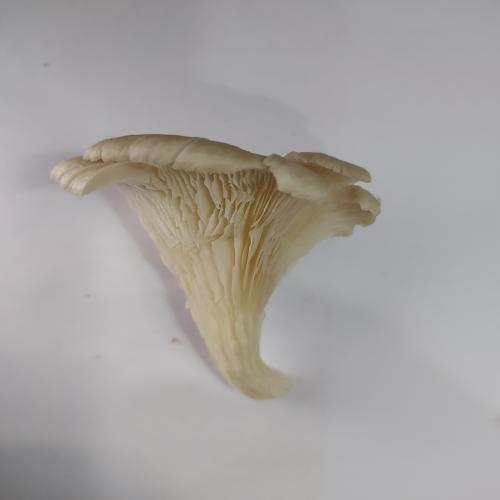Oyster Mushroom: (49, 133, 382, 401)
